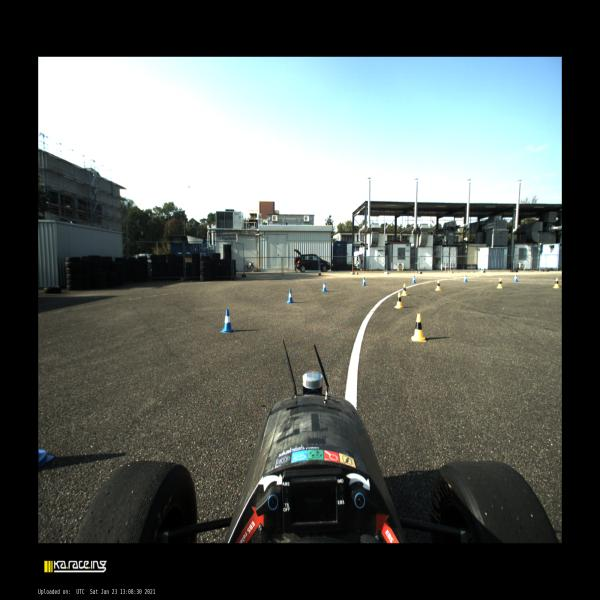blue_cone: (222, 309, 235, 332), (286, 289, 294, 303), (513, 274, 518, 282), (322, 282, 326, 292), (463, 274, 467, 282), (412, 275, 416, 283), (362, 277, 366, 285)
yellow_cone: (412, 313, 425, 341), (395, 292, 402, 308), (552, 278, 560, 288), (401, 283, 407, 296), (497, 278, 503, 288), (435, 280, 441, 290)
